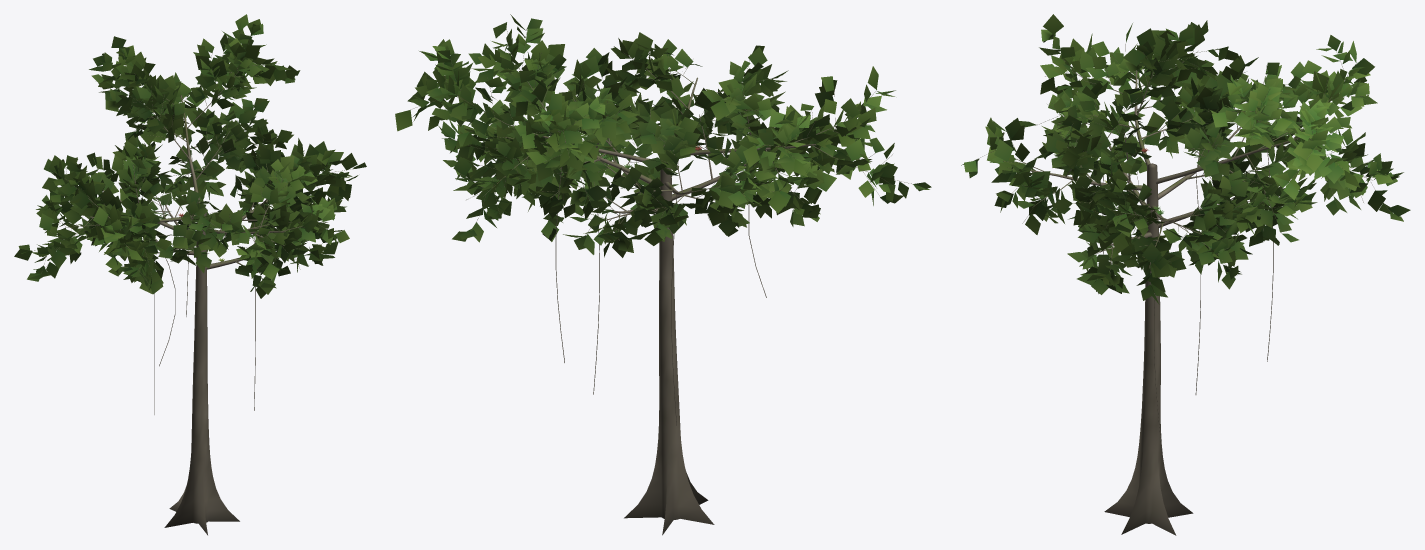
File: emergent-a.lod0.glb
3 views of the same model, side by side, from view 1: azimuth 30°, elevation 25°; view 2: azimuth 150°, elevation 25°; view 3: azimuth 270°, elevation 25° (orthographic). The views are drawn at different scales.
Size of the model in its own units: 22.77 by 26.08 by 21.86.
